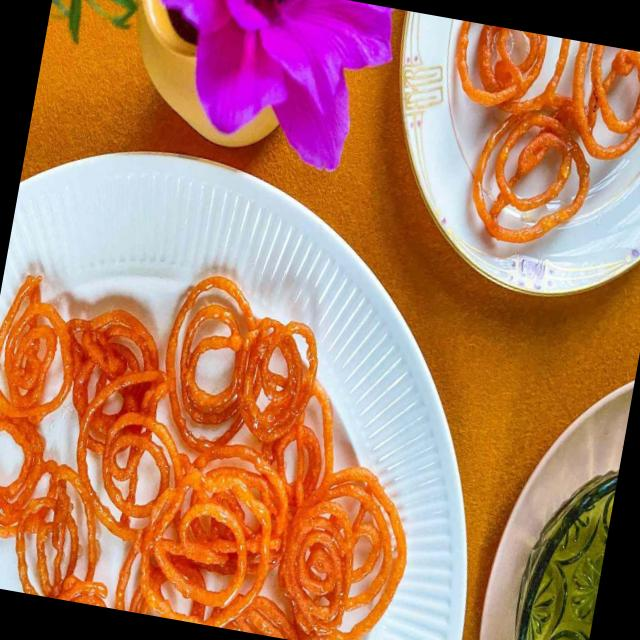jalebi: (0, 241, 452, 640), (414, 18, 640, 273)
